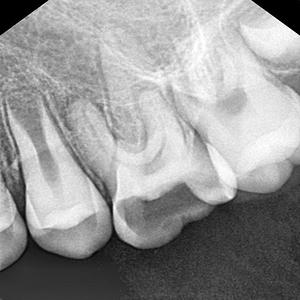tooth: (68, 90, 237, 249), (0, 93, 120, 260), (171, 47, 300, 194)
